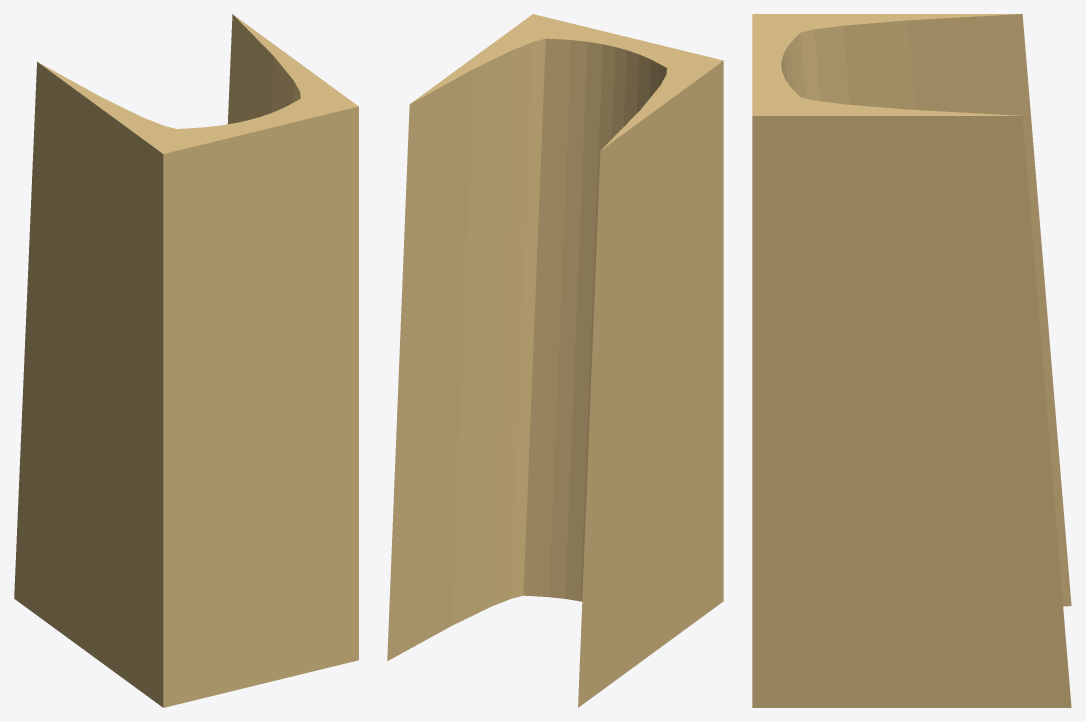
The model's file is dune.glb.
The picture shows the model from 3 angles, left to right: view 1: azimuth 30°, elevation 25°; view 2: azimuth 150°, elevation 25°; view 3: azimuth 270°, elevation 25°; orthographic projection. The views are drawn at different scales.
Visible parts, largest first — view 1: dune; view 2: dune; view 3: dune.
Part boxes in pixels (bbox=[...]): dune: bbox=[14, 14, 358, 707]; dune: bbox=[387, 14, 723, 707]; dune: bbox=[752, 14, 1071, 707].
Bounding box in the file's own units: 9.6 × 26 × 12.7.
